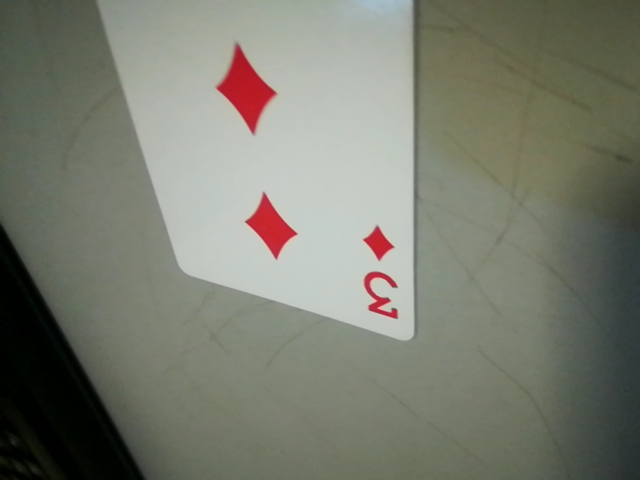fk 3: (348, 219, 413, 331)
